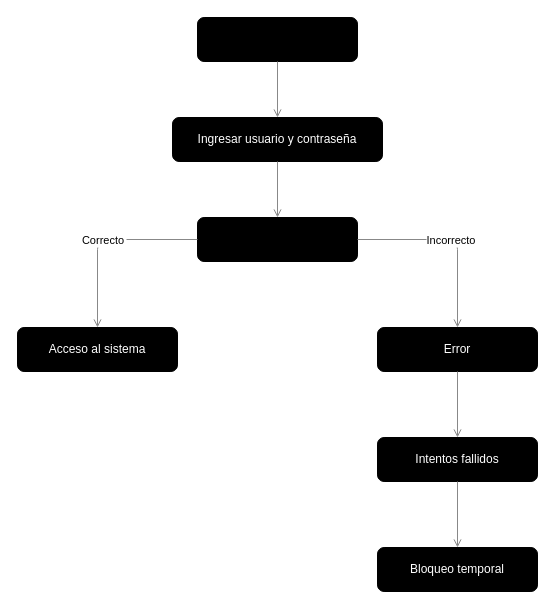
The diagram is 555 pixels wide and 609 high, and some of its shapes have lost their labels. Here are the shapes that lost their labels. From the top down, the box of each, then its label:
(196, 16, 358, 62): Usuario
(196, 216, 358, 262): Validación
